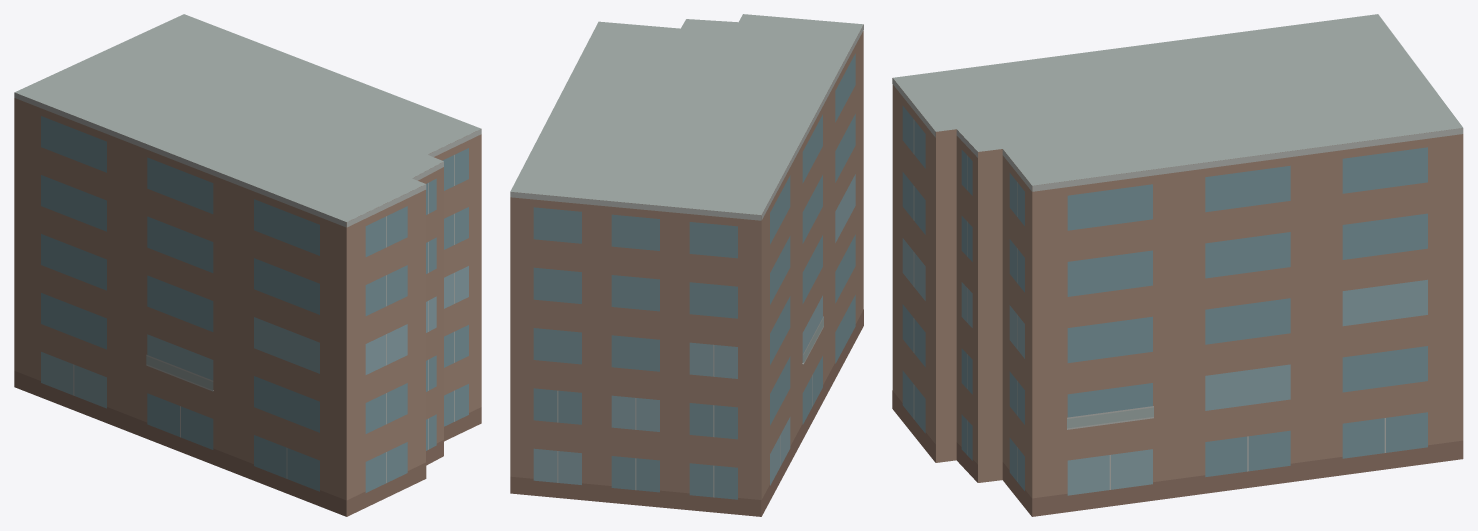
File: survey-upis-32610664.glb
3 views of the same model, side by side, from view 1: azimuth 30°, elevation 25°; view 2: azimuth 150°, elevation 25°; view 3: azimuth 270°, elevation 25° (orthographic). The views are drawn at different scales.
Parts seen in each view (by area): view 1: survey-upis-32610664.tmp; view 2: survey-upis-32610664.tmp; view 3: survey-upis-32610664.tmp.
Part boxes in pixels (bbox=[...]): survey-upis-32610664.tmp: bbox=[14, 14, 481, 516]; survey-upis-32610664.tmp: bbox=[510, 14, 863, 516]; survey-upis-32610664.tmp: bbox=[892, 14, 1463, 516].
Size of the model in its own units: 14.69 by 13.2 by 20.63.
